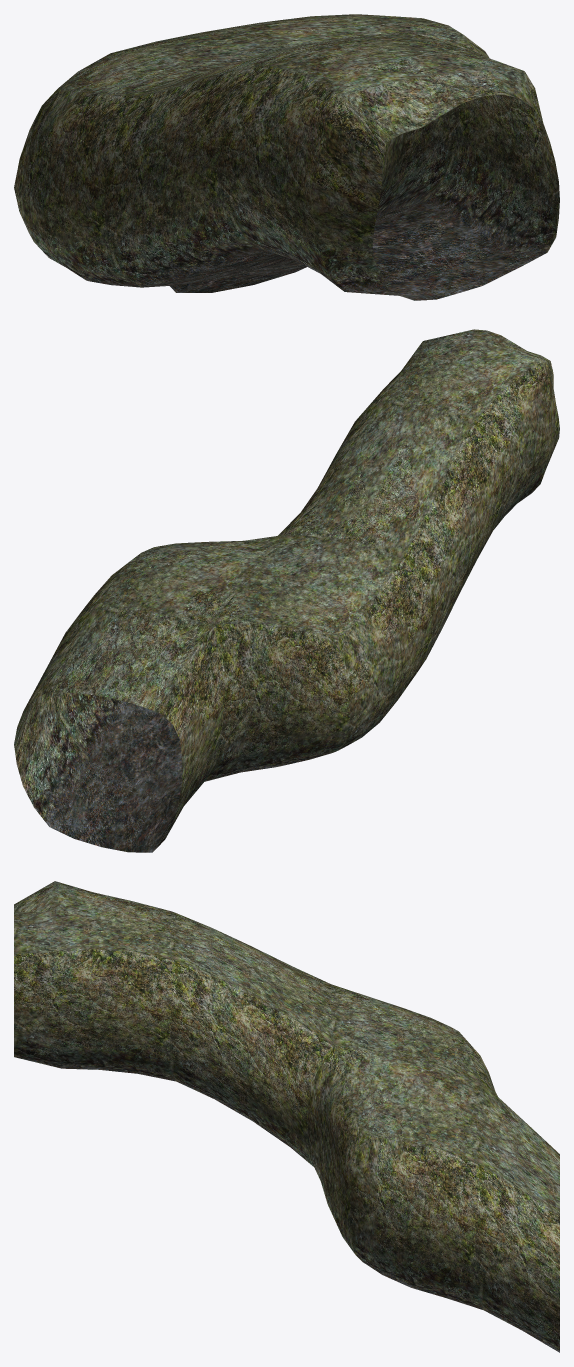
The model's file is thm_all_cave_flatland_s01_damprock_r1_mesh_r1.fbx.
3 views of the same model, one above another, from view 1: azimuth 30°, elevation 25°; view 2: azimuth 150°, elevation 25°; view 3: azimuth 270°, elevation 25° (orthographic). The views are drawn at different scales.
Visible parts, largest first — view 1: mesh_node; view 2: mesh_node; view 3: mesh_node.
Boxes of the visible parts, <box> form: mesh_node: <box>14,14,559,300</box>; mesh_node: <box>14,329,559,852</box>; mesh_node: <box>14,881,559,1352</box>.
Bounding box in the file's own units: 22.85 × 25.54 × 35.
